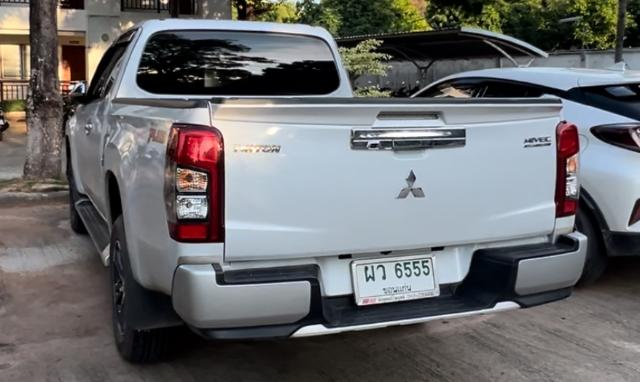pickup-truck: (61, 17, 589, 368)
